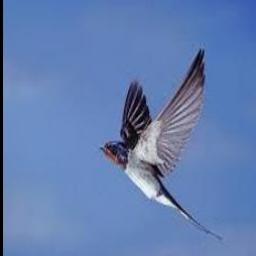Swallow: (101, 47, 223, 240)
